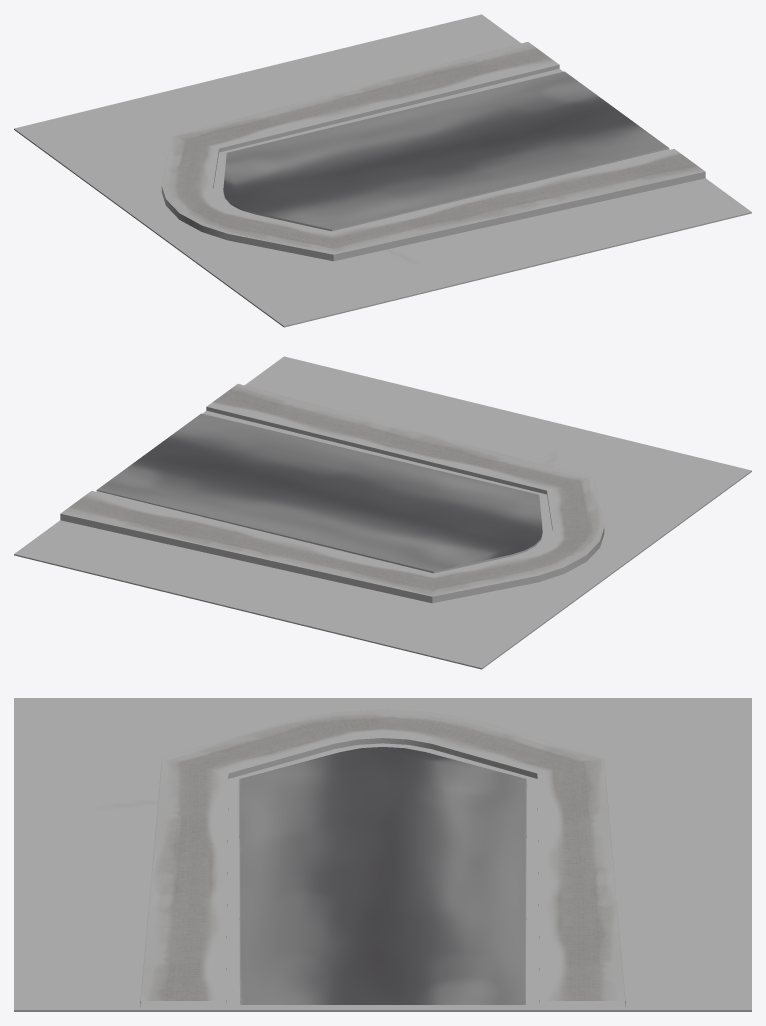
Rendered from Curved_DeadEnd2.fbx.
The picture shows the model from 3 angles, top to bottom: view 1: azimuth 30°, elevation 25°; view 2: azimuth 150°, elevation 25°; view 3: azimuth 270°, elevation 25°; orthographic projection. The views are drawn at different scales.
Visible parts, largest first — view 1: Road_10X32, Road_10X66; view 2: Road_10X32, Road_10X66; view 3: Road_10X32, Road_10X66.
Boxes of the visible parts, x1,y1,x2,y2 form: Road_10X32: (161,42,705,261); Road_10X66: (14,14,751,327); Road_10X32: (60,384,604,603); Road_10X66: (14,356,751,669); Road_10X32: (140,709,625,1007); Road_10X66: (14,698,751,1011).
Bounding box in the file's own units: 1000 × 16.2 × 1000.
